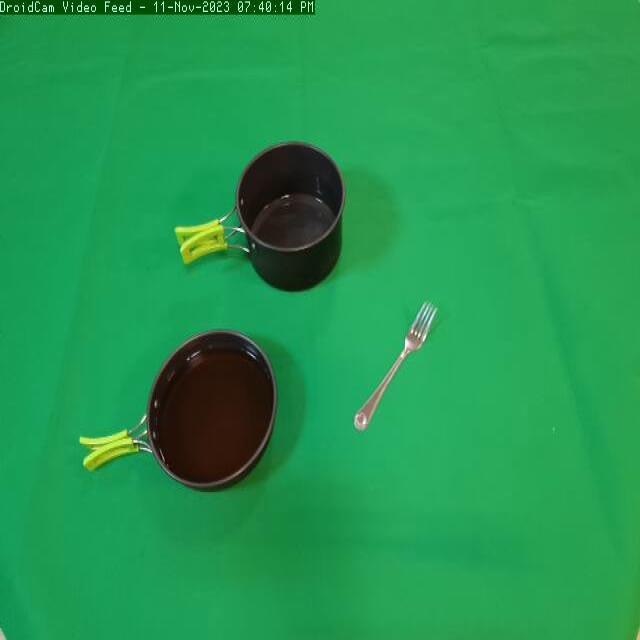fork: (346, 290, 440, 440)
fullpan: (68, 320, 283, 505)
pot: (174, 137, 354, 303)
